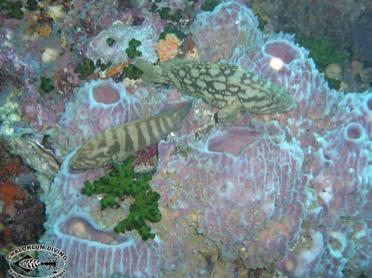Serranidae -Groupers-: (128, 53, 296, 125), (66, 97, 194, 174)
